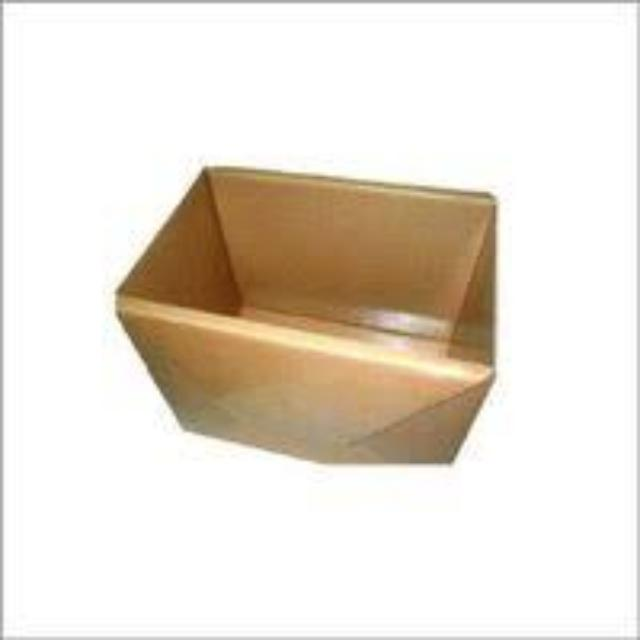cardboard paper: (115, 163, 490, 458)
